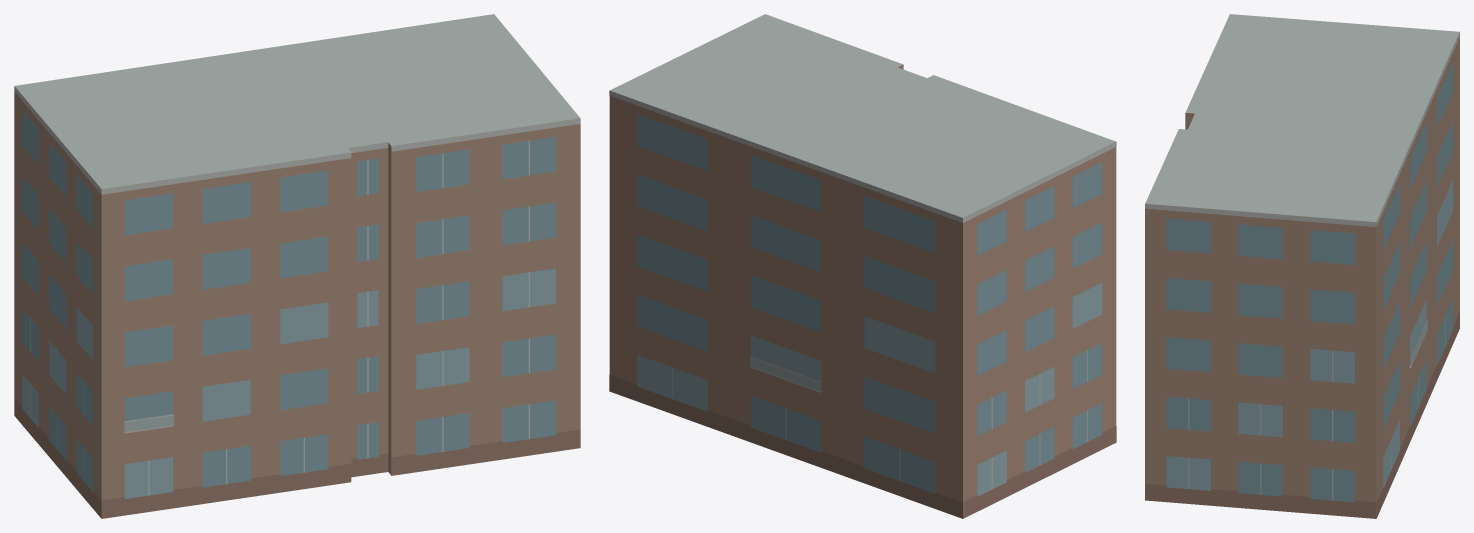
Rendered from survey-upis-32668511.glb.
3 views of the same model, side by side, from view 1: azimuth 30°, elevation 25°; view 2: azimuth 150°, elevation 25°; view 3: azimuth 270°, elevation 25° (orthographic). The views are drawn at different scales.
Visible parts, largest first — view 1: survey-upis-32668511.tmp; view 2: survey-upis-32668511.tmp; view 3: survey-upis-32668511.tmp.
Part boxes in pixels (x1,y1,x2,y2): survey-upis-32668511.tmp: (14,14,580,518); survey-upis-32668511.tmp: (609,14,1116,518); survey-upis-32668511.tmp: (1145,14,1459,518).
Size of the model in its own units: 21.82 by 14.5 by 13.95.
